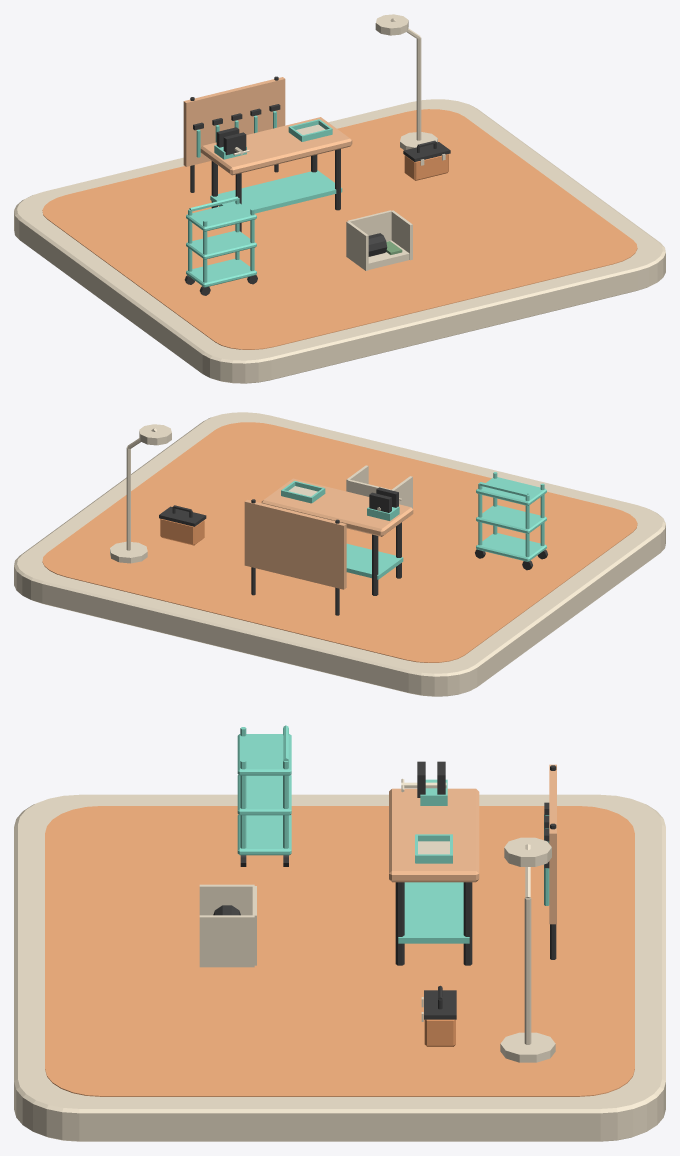
3 views of the same model, one above another, from view 1: azimuth 30°, elevation 25°; view 2: azimuth 150°, elevation 25°; view 3: azimuth 270°, elevation 25° (orthographic). The views are drawn at different scales.
Visible parts, largest first — view 1: COM-02 Floor Surface, COM-01 Rounded Base Direct, Peg board, Worktop, Lower shelf, Tray.002, Tray.001, Tray, Side, Box, Back, Side.001 (+2 smaller); view 2: COM-02 Floor Surface, COM-01 Rounded Base Direct, Peg board, Worktop, Lower shelf, Tray, Tray.001, Tray.002, Box, Base.002, Lamp head, Lid (+1 smaller); view 3: COM-02 Floor Surface, COM-01 Rounded Base Direct, Worktop, Lower shelf, Side.001, Tray.002, Tray, Tray.001, Side, Base.002, Lamp head, Peg board (+5 smaller).
Boxes of the visible parts, x1=… form: COM-02 Floor Surface: x1=42, y1=109, x2=637, y2=349; COM-01 Rounded Base Direct: x1=14, y1=99, x2=665, y2=383; Peg board: x1=183, y1=77, x2=285, y2=166; Worktop: x1=200, y1=117, x2=352, y2=175; Lower shelf: x1=210, y1=170, x2=342, y2=213; Tray.002: x1=186, y1=203, x2=256, y2=231; Tray.001: x1=186, y1=231, x2=256, y2=259; Tray: x1=186, y1=259, x2=256, y2=287; Side: x1=346, y1=221, x2=368, y2=270; Box: x1=404, y1=154, x2=448, y2=180; Back: x1=348, y1=210, x2=391, y2=241; Side.001: x1=391, y1=210, x2=412, y2=260; COM-02 Floor Surface: x1=42, y1=422, x2=637, y2=662; COM-01 Rounded Base Direct: x1=14, y1=412, x2=665, y2=696; Peg board: x1=244, y1=499, x2=346, y2=589; Worktop: x1=261, y1=478, x2=413, y2=536; Lower shelf: x1=346, y1=543, x2=403, y2=579; Tray: x1=476, y1=533, x2=546, y2=561; Tray.001: x1=476, y1=505, x2=546, y2=533; Tray.002: x1=476, y1=477, x2=546, y2=505; Box: x1=160, y1=518, x2=204, y2=545; Base.002: x1=110, y1=541, x2=147, y2=563; Lamp head: x1=139, y1=424, x2=171, y2=445; Lid: x1=159, y1=506, x2=206, y2=526; COM-02 Floor Surface: x1=45, y1=806, x2=634, y2=1096; COM-01 Rounded Base Direct: x1=14, y1=794, x2=665, y2=1141; Worktop: x1=389, y1=788, x2=479, y2=882; Lower shelf: x1=398, y1=882, x2=469, y2=943; Side.001: x1=199, y1=915, x2=254, y2=967; Tray.002: x1=237, y1=734, x2=291, y2=775; Tray: x1=237, y1=814, x2=291, y2=855; Tray.001: x1=237, y1=775, x2=291, y2=815; Side: x1=199, y1=884, x2=254, y2=915; Base.002: x1=500, y1=1032, x2=555, y2=1062; Lamp head: x1=504, y1=837, x2=551, y2=866; Peg board: x1=549, y1=764, x2=556, y2=924.
Bounding box in the file's own units: 6 × 1.96 × 5.2.
1 material, 1 textured.
